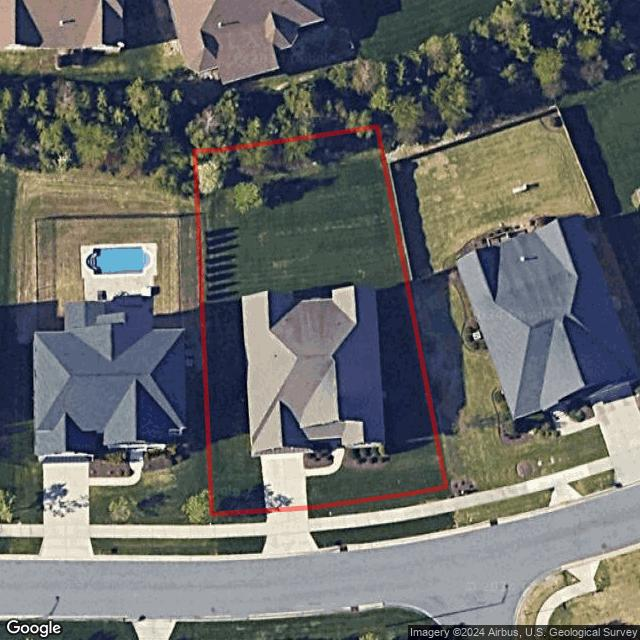Driveway: (260, 453, 307, 511)
Extra-Driveway: (258, 507, 321, 559)
Extra-Lawn: (311, 511, 456, 547), (307, 487, 451, 518), (213, 536, 268, 555), (211, 512, 267, 524)
Extra-Sidewalk: (310, 497, 455, 532), (213, 521, 269, 539)
House: (242, 285, 388, 455)
Lawn: (195, 127, 446, 514)
Other: (195, 129, 381, 212), (341, 446, 391, 469), (303, 446, 334, 469)
Sidewalk: (305, 440, 344, 477)
